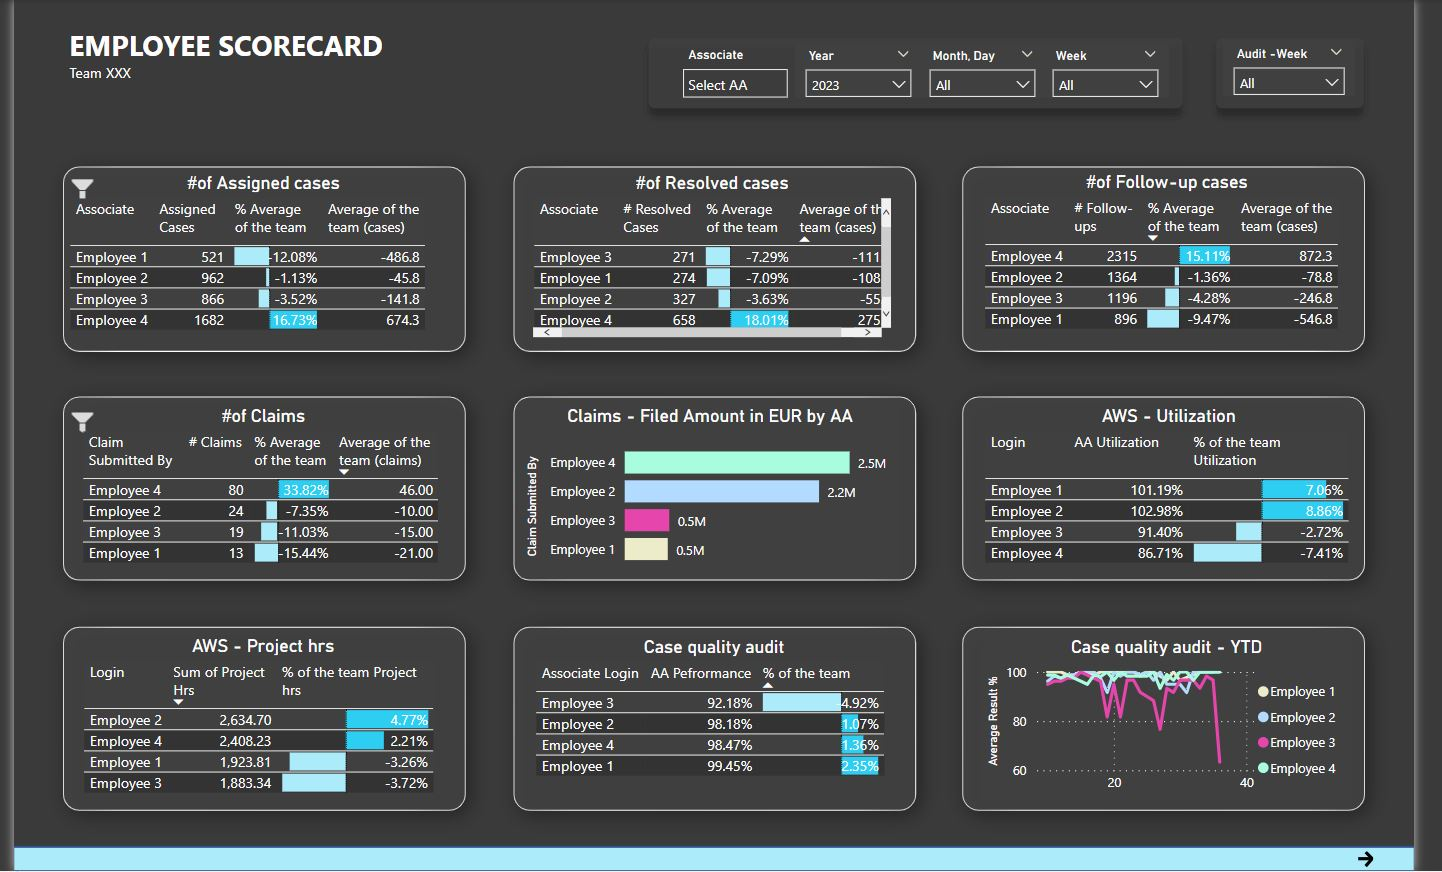

What the dashboard file says about the page in this screenshot:
{"tool":"powerbi","page":{"name":"Page 1","canvas":[1322,823],"ordinal":0},"visuals":[{"type":"slicer","fields":{"Values":["Calendar.Month","Calendar.Day"]},"box":[854.8,40.4,120.2,52],"z":0},{"type":"slicer","fields":{"Values":["LP audit.Week"]},"box":[1142.4,38.6,124.8,51.7],"z":1000},{"type":"slicer","fields":{"Values":["Years.Year"]},"box":[738.3,40.4,120.2,52],"z":2000},{"type":"textbox","title":"Report name","box":[47.6,19.2,494,91.1],"z":3000},{"type":"tableEx","title":"#of Resolved cases","fields":{"Values":["Case_All_Append.Associate","Case_All_Append.Case_id","Case_All_Append.AA Perf vs Team average (%)","Case_All_Append.Performance DELTA"]},"box":[486,162.3,348,161.3],"z":5000},{"type":"tableEx","title":"#of Follow-up cases","fields":{"Values":["Case_All_Append.Associate","Case_All_Append.Case_id","Case_All_Append.AA Perf vs Team average (%)","Case_All_Append.Performance DELTA"]},"box":[912.1,161.3,355.1,162.3],"z":6000},{"type":"tableEx","title":"Case quality audit","fields":{"Values":["LP audit.Associate Login","LP audit.AA PERFORMANCE","LP audit.Delta Audit (%)"]},"box":[487.6,601,347.7,156.9],"z":7000},{"type":"tableEx","title":"#of Claims","fields":{"Values":["Claims.Claim Submitted By","Claims.Case ID","Claims.Claims Relative Performance (%)","Claims.Delta Performance (claims)"]},"box":[59.9,382.5,352.1,155.2],"z":8000},{"type":"tableEx","title":"#of Assigned cases","fields":{"Values":["Case_All_Append.Associate","Case_All_Append.Case_id","Case_All_Append.AA Perf vs Team average (%)","Case_All_Append.Performance DELTA"]},"box":[47.4,162.8,377.1,161.8],"z":9000},{"type":"tableEx","title":"AWS - Utilization","fields":{"Values":["AWS.Login","AWS.AA Utilization","AWS.% of the team utilization"]},"box":[911.9,382.7,358.5,154.5],"z":10000},{"type":"barChart","title":"Claims - Filed Amount in EUR  by AA","fields":{"Category":["Claims.Claim Submitted By"],"Y":["Sum(Claims.Value of loss)"]},"box":[478.9,382.5,357.1,163.3],"z":11000},{"type":"lineChart","title":"Case quality audit - YTD","fields":{"Category":["LP audit.Week"],"Y":["Avg(LP audit.Performance %)"],"Series":["LP audit.Associate Login"]},"box":[914.7,601,348.7,156.9],"z":12000},{"type":"tableEx","title":"AWS - Project hrs","fields":{"Values":["AWS.Login","Sum(AWS.Project Hrs)","AWS.AWS  Project hrs (%)"]},"box":[60.1,600.5,349.9,159.4],"z":13000},{"type":"actionButton","title":"Open Filter Pane 1","box":[43.6,161.3,45.7,44.6],"z":14000},{"type":"actionButton","title":"Open Filter Pane 2","box":[43.6,382.5,45.7,39.6],"z":15000},{"type":"slicer","fields":{"Values":["Calendar.Week of Year"]},"box":[971.4,40.4,120.2,52],"z":18000},{"type":"textbox","title":"Associate","box":[631.7,44.5,87.1,47.6],"z":19000},{"type":"actionButton","title":"Open AA Filter Pane","box":[631.7,64.8,99.2,27.3],"z":20000},{"type":"actionButton","box":[1265.1,799.9,57.1,23.1],"z":22000}]}

Visuals, with their boxes in screenshot pixels (x1, y1, x2, y2), scaled from the page's 1322x823 canvas onto the 1442x872 screenshot:
slicer - Calendar.Month x Calendar.Day: bbox=[932, 43, 1064, 98]
slicer - LP audit.Week: bbox=[1246, 41, 1382, 96]
slicer - Years.Year: bbox=[805, 43, 936, 98]
"Report name" textbox: bbox=[52, 20, 591, 117]
"#of Resolved cases" tableEx: bbox=[530, 172, 910, 343]
"#of Follow-up cases" tableEx: bbox=[995, 171, 1382, 343]
"Case quality audit" tableEx: bbox=[532, 637, 911, 803]
"#of Claims" tableEx: bbox=[65, 405, 449, 570]
"#of Assigned cases" tableEx: bbox=[52, 172, 463, 344]
"AWS - Utilization" tableEx: bbox=[995, 405, 1386, 569]
"Claims - Filed Amount in EUR  by AA" barChart: bbox=[522, 405, 912, 578]
"Case quality audit - YTD" lineChart: bbox=[998, 637, 1378, 803]
"AWS - Project hrs" tableEx: bbox=[66, 636, 447, 805]
"Open Filter Pane 1" actionButton: bbox=[48, 171, 97, 218]
"Open Filter Pane 2" actionButton: bbox=[48, 405, 97, 447]
slicer - Calendar.Week of Year: bbox=[1060, 43, 1191, 98]
"Associate" textbox: bbox=[689, 47, 784, 98]
"Open AA Filter Pane" actionButton: bbox=[689, 69, 797, 98]
actionButton: bbox=[1380, 848, 1441, 871]
